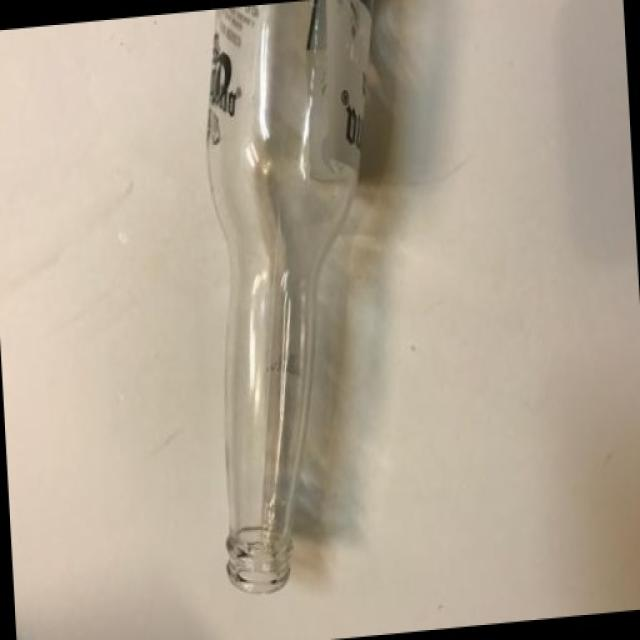vidrio: (144, 3, 448, 598)
